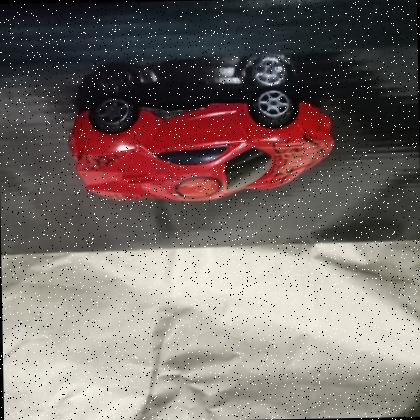Car: (62, 84, 339, 210)
